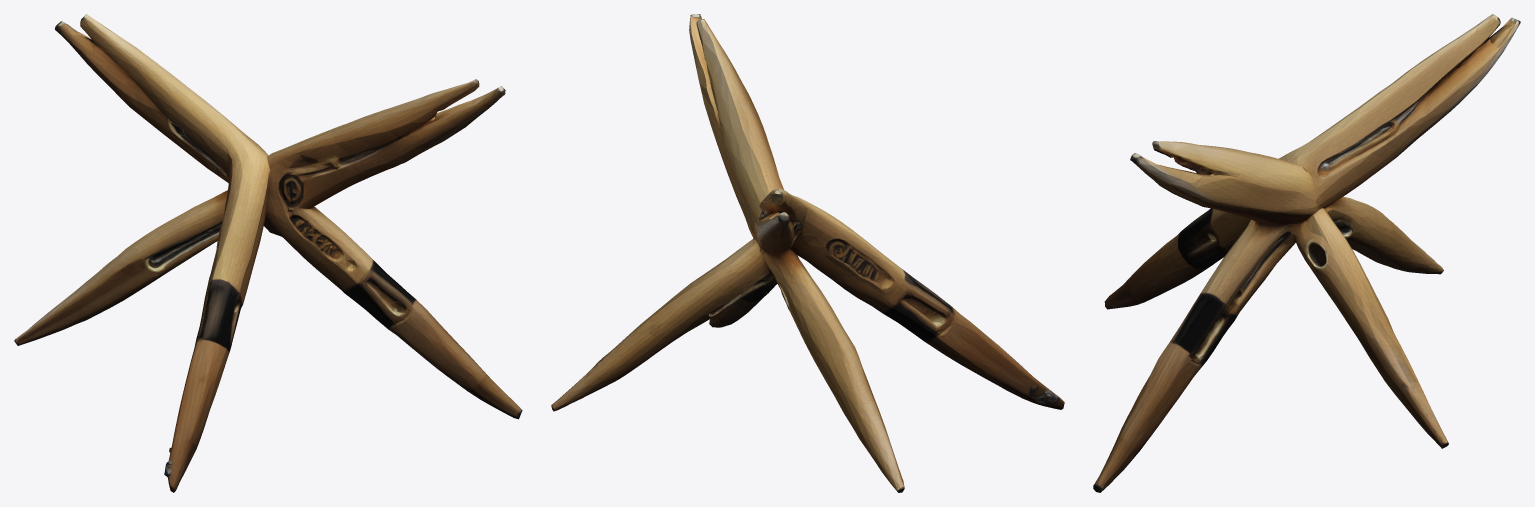
The model's file is wooden-knitting-needles-futuristic.jpeg.glb.
3 views of the same model, side by side, from view 1: azimuth 30°, elevation 25°; view 2: azimuth 150°, elevation 25°; view 3: azimuth 270°, elevation 25° (orthographic). The views are drawn at different scales.
Visible parts, largest first — view 1: world; view 2: world; view 3: world.
Part boxes in pixels (x1=…): world: x1=14, y1=14, x2=522, y2=492; world: x1=551, y1=14, x2=1064, y2=492; world: x1=1093, y1=14, x2=1520, y2=492.
Bounding box in the file's own units: 1 × 0.9023 × 0.9999.
1 material, 1 textured.
